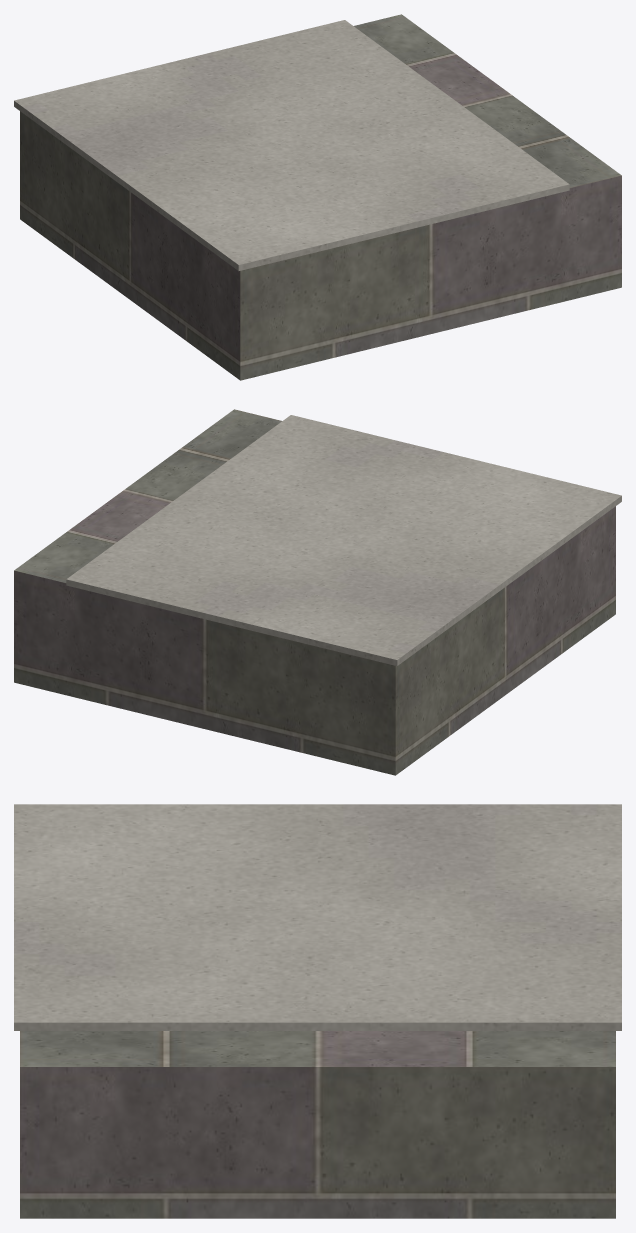
Rendered from floor_concrete_g_e0100.glb.
3 views of the same model, one above another, from view 1: azimuth 30°, elevation 25°; view 2: azimuth 150°, elevation 25°; view 3: azimuth 270°, elevation 25° (orthographic). The views are drawn at different scales.
Parts seen in each view (by area): view 1: floor_concrete_g_e0100_plinth, floor_concrete_g_e0100_concrete; view 2: floor_concrete_g_e0100_plinth, floor_concrete_g_e0100_concrete; view 3: floor_concrete_g_e0100_concrete, floor_concrete_g_e0100_plinth.
Boxes of the visible parts, x1,y1,x2,y2 form: floor_concrete_g_e0100_plinth: [20, 14, 621, 380]; floor_concrete_g_e0100_concrete: [14, 20, 569, 270]; floor_concrete_g_e0100_plinth: [14, 409, 615, 775]; floor_concrete_g_e0100_concrete: [66, 415, 621, 665]; floor_concrete_g_e0100_concrete: [14, 804, 621, 1030]; floor_concrete_g_e0100_plinth: [20, 1031, 615, 1218].
Size of the model in its own units: 1.98 by 0.58 by 2.
Materials: 2 (2 with a texture image).
